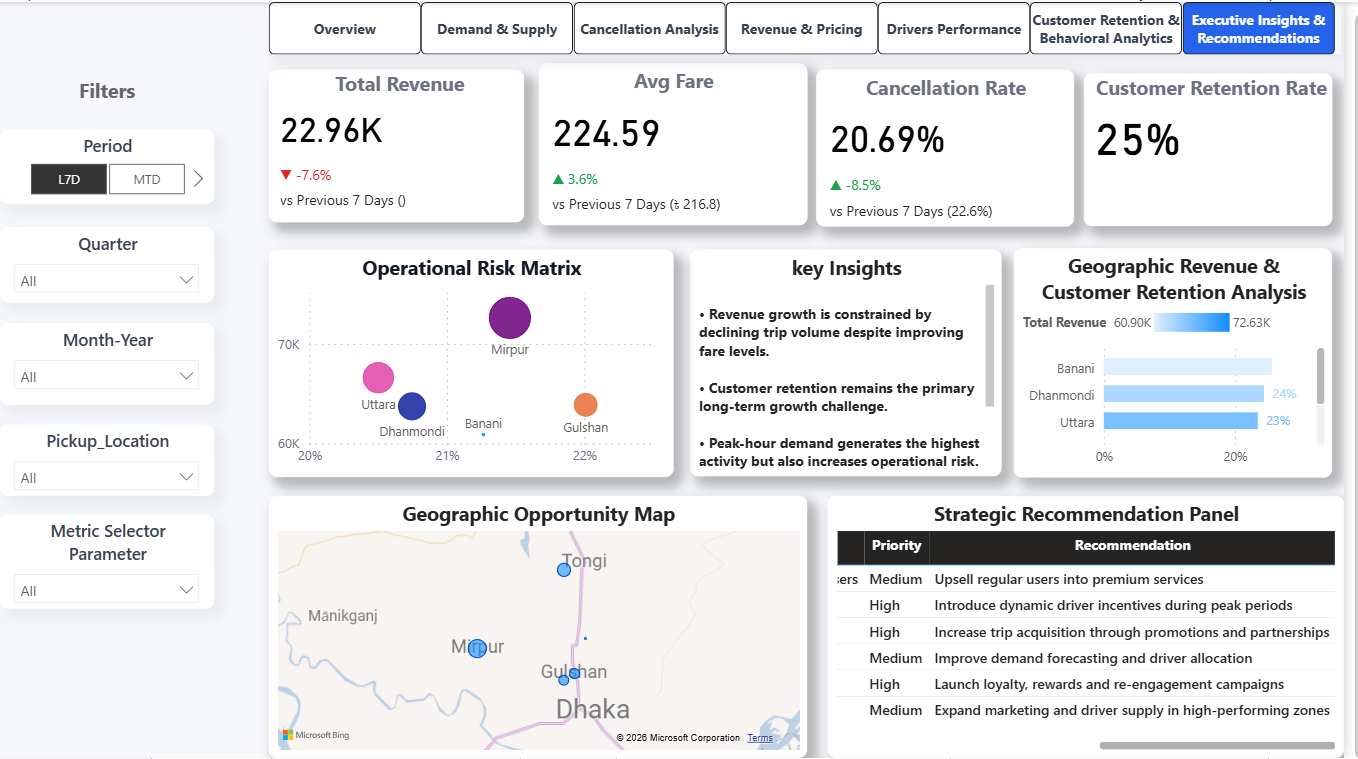

What the dashboard file says about the page in this screenshot:
{"tool":"powerbi","page":{"name":"Executive Insights & Recommendations ","canvas":[1280,720],"ordinal":44},"visuals":[{"type":"cardVisual","title":"Total Revenue","fields":{"Data":["analytics_fact_trips.Revenue Current (KPI)"]},"box":[255.3,67.1,248.2,144.7],"z":0},{"type":"cardVisual","title":"Avg Fare","fields":{"Data":["analytics_fact_trips.Avg Fare Current (KPI)"]},"box":[512.9,67.1,255.3,145.9],"z":1000},{"type":"cardVisual","title":"Cancellation Rate","fields":{"Data":["analytics_fact_trips.Cancel Rate Current (KPI)"]},"box":[777.2,64.6,245.6,149.4],"z":2000},{"type":"cardVisual","title":"Customer Retention Rate","fields":{"Data":["analytics_fact_trips.Retention Rate"]},"box":[1032.4,67.6,236.5,145.9],"z":3000},{"type":"textbox","title":"key Insights","box":[657.5,235.6,296.6,216.1],"z":4000},{"type":"slicer","title":"Quarter","fields":{"Values":["dim_date.quarter"]},"box":[0,213.9,203.8,72.2],"z":5000},{"type":"slicer","title":"Pickup_Location","fields":{"Values":["analytics_fact_trips.pickup_location"]},"box":[0,402.5,203.8,68.4],"z":6000},{"type":"scatterChart","title":"Operational Risk Matrix","fields":{"X":["analytics_fact_trips.Cancellation Rate"],"Y":["analytics_fact_trips.Total Revenue"],"Size":["analytics_fact_trips.Total Trips"],"Series":["analytics_fact_trips.pickup_location"]},"box":[255.7,235.2,385.2,217],"z":7000},{"type":"tableEx","title":"Strategic Recommendation Panel ","fields":{"Values":["Strategic Recommendations.Business Impact","Strategic Recommendations.Business Problem","Strategic Recommendations.Priority","Strategic Recommendations.Recommendation"]},"box":[788.5,470.1,492,249.4],"z":8000},{"type":"map","title":"Geographic Opportunity Map ","fields":{"Size":["analytics_fact_trips.Customer Retention Rate"],"Category":["analytics_fact_trips.pickup_location"]},"box":[255.8,470.5,512.7,249.7],"z":9000},{"type":"slicer","title":"Metric Selector Parameter","fields":{"Values":["Parameter.Parameter"]},"box":[0,488.6,203.8,89.9],"z":10000},{"type":"clusteredBarChart","title":"Geographic Revenue & Customer Retention Analysis","fields":{"Category":["analytics_fact_trips.pickup_location"],"Y":["analytics_fact_trips.Customer Retention Rate"]},"box":[965.5,234.5,303.4,218.4],"z":11000},{"type":"pageNavigator","box":[255.7,0,1021.5,50.6],"z":12000},{"type":"slicer","title":"Period","fields":{"Values":["Time Period.Period"]},"box":[0,121.5,203.8,70.9],"z":13000},{"type":"slicer","title":"Month-Year","fields":{"Values":["dim_date.month_year"]},"box":[0,306.3,203.8,77.2],"z":14000},{"type":"textbox","box":[0,67.1,203.8,45.6],"z":15000}]}

Visuals, with their boxes on the page's 1280x720 design canvas (x1, y1, x2, y2). These are canvas units, not pixel positions in the 1358x759 screenshot, which may show the page scaled, cropped or inside an application window:
"Total Revenue" cardVisual: 255,67,504,212
"Avg Fare" cardVisual: 513,67,768,213
"Cancellation Rate" cardVisual: 777,65,1023,214
"Customer Retention Rate" cardVisual: 1032,68,1269,214
"key Insights" textbox: 658,236,954,452
"Quarter" slicer: 0,214,204,286
"Pickup_Location" slicer: 0,402,204,471
"Operational Risk Matrix" scatterChart: 256,235,641,452
"Strategic Recommendation Panel " tableEx: 788,470,1280,720
"Geographic Opportunity Map " map: 256,470,768,720
"Metric Selector Parameter" slicer: 0,489,204,578
"Geographic Revenue & Customer Retention Analysis" clusteredBarChart: 966,234,1269,453
pageNavigator: 256,0,1277,51
"Period" slicer: 0,122,204,192
"Month-Year" slicer: 0,306,204,384
textbox: 0,67,204,113
